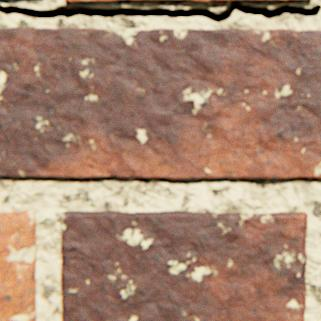brick: (0, 27, 320, 178), (61, 210, 307, 320), (66, 0, 119, 2), (156, 0, 229, 1), (248, 0, 294, 1)
broken_brick: (0, 209, 37, 320)
crack: (0, 0, 320, 23)
